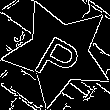P_NE: (30, 22, 88, 84)
